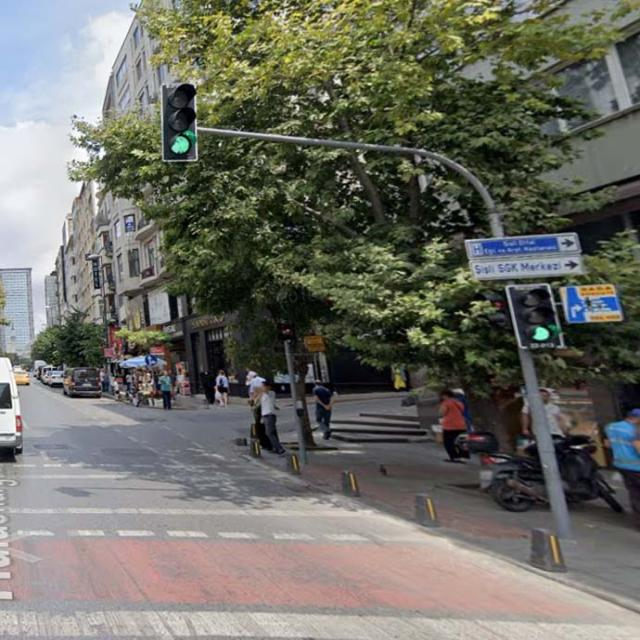yesil: (164, 83, 202, 162), (515, 286, 557, 346)
